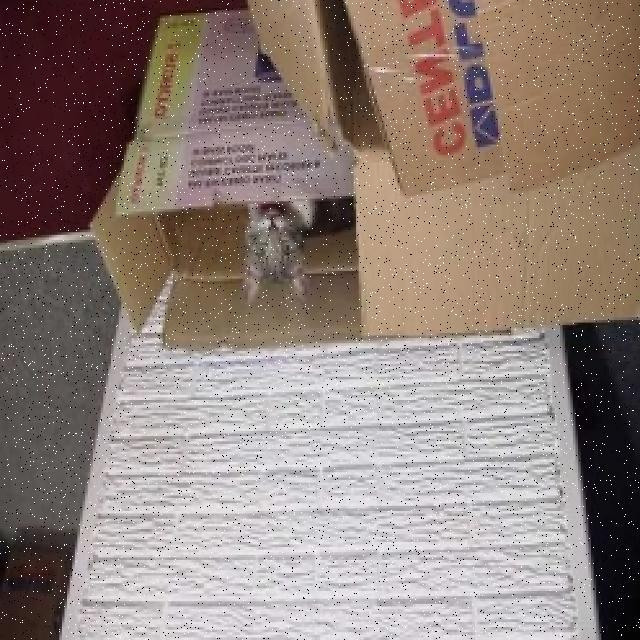box: (134, 0, 547, 346), (222, 0, 640, 338), (335, 0, 640, 209)
